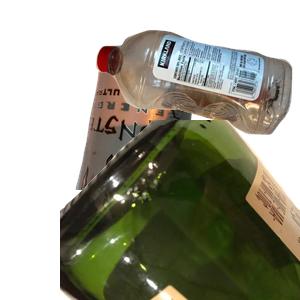glass: (60, 120, 300, 300)
metal: (73, 52, 263, 232)
plastic: (93, 27, 300, 154)
trash: (88, 177, 251, 300)
